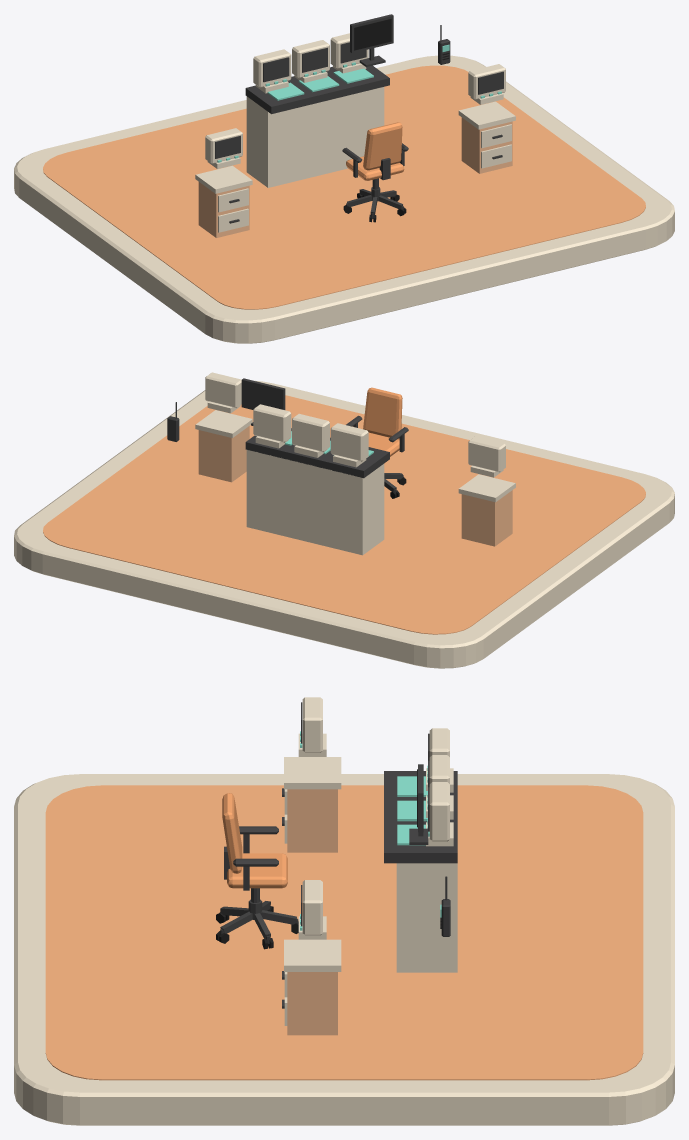
The model's file is room.fbx.
3 views of the same model, one above another, from view 1: azimuth 30°, elevation 25°; view 2: azimuth 150°, elevation 25°; view 3: azimuth 270°, elevation 25° (orthographic). The views are drawn at different scales.
Parts seen in each view (by area): view 1: COM-02 Floor Surface, COM-01 Rounded Base Direct, Console, COM-04_Chair_blender_direct, Panel, Frame, Body.001, Body, Top, Top.001, Housing, Housing.001 (+9 smaller); view 2: COM-02 Floor Surface, COM-01 Rounded Base Direct, Console, COM-04_Chair_blender_direct, Body, Body.001, Panel, Housing, Housing.002, Housing.001, Frame, Housing.003 (+3 smaller); view 3: COM-02 Floor Surface, COM-01 Rounded Base Direct, Console, COM-04_Chair_blender_direct, Body, Body.001, Panel, Top, Top.001, Housing.002, Housing.003, Housing.004 (+1 smaller).
Boxes of the visible parts, x1,y1,x2,y2 form: COM-02 Floor Surface: [43, 65, 645, 309]; COM-01 Rounded Base Direct: [14, 55, 674, 343]; Console: [246, 87, 384, 187]; COM-04_Chair_blender_direct: [342, 122, 408, 222]; Panel: [245, 65, 389, 114]; Frame: [350, 14, 393, 67]; Body.001: [461, 117, 512, 173]; Body: [198, 182, 249, 237]; Top: [195, 165, 252, 193]; Top.001: [458, 101, 515, 129]; Housing: [253, 49, 291, 87]; Housing.001: [292, 40, 329, 78]; COM-02 Floor Surface: [43, 395, 645, 634]; COM-01 Rounded Base Direct: [14, 380, 674, 668]; Console: [246, 449, 384, 555]; COM-04_Chair_blender_direct: [346, 387, 408, 498]; Body: [461, 490, 512, 546]; Body.001: [198, 426, 249, 482]; Panel: [245, 428, 389, 478]; Housing: [330, 423, 368, 461]; Housing.002: [253, 404, 291, 442]; Housing.001: [292, 413, 329, 452]; Frame: [241, 378, 285, 425]; Housing.003: [468, 436, 505, 472]; COM-02 Floor Surface: [45, 785, 643, 1080]; COM-01 Rounded Base Direct: [14, 774, 674, 1125]; Console: [396, 863, 457, 972]; COM-04_Chair_blender_direct: [216, 793, 298, 949]; Body: [287, 789, 337, 852]; Body.001: [287, 972, 337, 1035]; Panel: [384, 771, 457, 863]; Top: [284, 757, 341, 789]; Top.001: [284, 939, 341, 971]; Housing.002: [429, 782, 449, 841]; Housing.003: [302, 697, 322, 752]; Housing.004: [302, 880, 322, 935].
Size of the model in its own units: 600 by 196 by 520.
